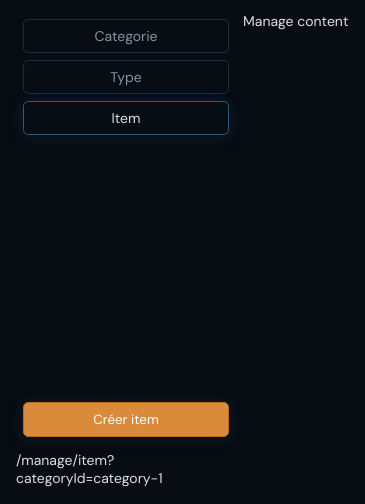
Test: LeftNavContentLayout › navigates to the item create route and keeps the query
Click the button "Créer item".
click(126, 419)  # box [23,402,229,436]
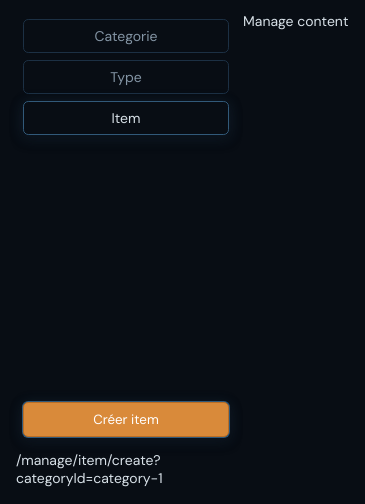
Check: the text with test id "location" reads "/manage/item/create?categoryId=category-1", box [16,450,163,486]
